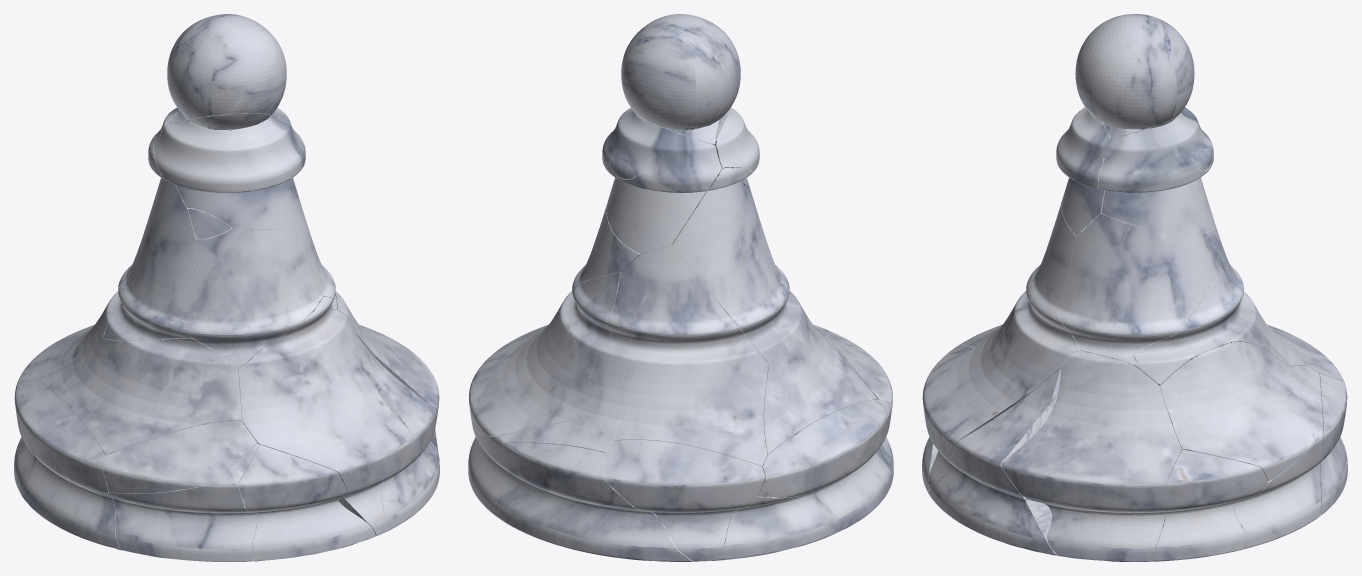
Rendered from BrokenPawn.fbx.
3 views of the same model, side by side, from view 1: azimuth 30°, elevation 25°; view 2: azimuth 150°, elevation 25°; view 3: azimuth 270°, elevation 25° (orthographic).
Parts seen in each view (by area): view 1: PawnLow_cell.008, PawnLow_cell.006, PawnLow_cell.002, PawnLow_cell.018, PawnLow_cell.003, PawnLow_cell.011, PawnLow_cell.024, PawnLow_cell.020, PawnLow_cell.015, PawnLow_cell.004, PawnLow_cell.012, PawnLow_cell.016 (+5 smaller); view 2: PawnLow_cell.001, PawnLow_cell.025, PawnLow_cell.013, PawnLow_cell.020, PawnLow_cell.003, PawnLow_cell, PawnLow_cell.021, PawnLow_cell.016, PawnLow_cell.006, PawnLow_cell.004, PawnLow_cell.017, PawnLow_cell.010 (+5 smaller); view 3: PawnLow_cell.009, PawnLow_cell.014, PawnLow_cell.021, PawnLow_cell.008, PawnLow_cell.003, PawnLow_cell, PawnLow_cell.012, PawnLow_cell.019, PawnLow_cell.017, PawnLow_cell.010, PawnLow_cell.002, PawnLow_cell.025 (+4 smaller).
Boxes of the visible parts, box(x1,y1,x2,y2) form: PawnLow_cell.008: box(238, 296, 413, 535); PawnLow_cell.006: box(37, 338, 242, 455); PawnLow_cell.002: box(154, 113, 305, 229); PawnLow_cell.018: box(190, 217, 323, 367); PawnLow_cell.003: box(165, 14, 286, 124); PawnLow_cell.011: box(108, 443, 259, 561); PawnLow_cell.024: box(239, 444, 376, 561); PawnLow_cell.020: box(103, 145, 216, 340); PawnLow_cell.015: box(103, 421, 257, 493); PawnLow_cell.004: box(14, 380, 108, 496); PawnLow_cell.012: box(354, 331, 439, 535); PawnLow_cell.016: box(14, 437, 120, 549); PawnLow_cell.001: box(589, 244, 768, 466); PawnLow_cell.025: box(498, 443, 692, 561); PawnLow_cell.013: box(604, 439, 765, 561); PawnLow_cell.020: box(672, 167, 789, 363); PawnLow_cell.003: box(621, 14, 740, 144); PawnLow_cell: box(602, 108, 721, 253); PawnLow_cell.021: box(470, 311, 593, 435); PawnLow_cell.016: box(712, 448, 893, 560); PawnLow_cell.006: box(763, 291, 877, 464); PawnLow_cell.004: box(758, 399, 891, 497); PawnLow_cell.017: box(468, 415, 662, 523); PawnLow_cell.010: box(558, 272, 621, 378); PawnLow_cell.009: box(1001, 350, 1181, 561); PawnLow_cell.014: box(1058, 213, 1218, 364); PawnLow_cell.021: box(1160, 341, 1313, 480); PawnLow_cell.008: box(923, 294, 1080, 494); PawnLow_cell.003: box(1075, 14, 1194, 138); PawnLow_cell: box(1098, 107, 1214, 233); PawnLow_cell.012: box(929, 368, 1060, 555); PawnLow_cell.019: box(1154, 449, 1267, 561); PawnLow_cell.017: box(1234, 365, 1323, 550); PawnLow_cell.010: box(1132, 255, 1265, 385); PawnLow_cell.002: box(1056, 107, 1111, 235); PawnLow_cell.025: box(1319, 373, 1347, 515).
Size of the model in its own units: 199 by 233 by 199.
